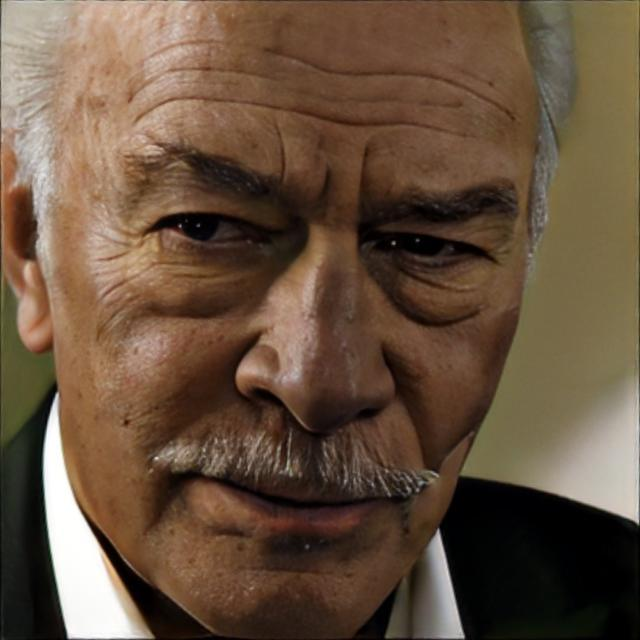content: (56, 0, 542, 640)
